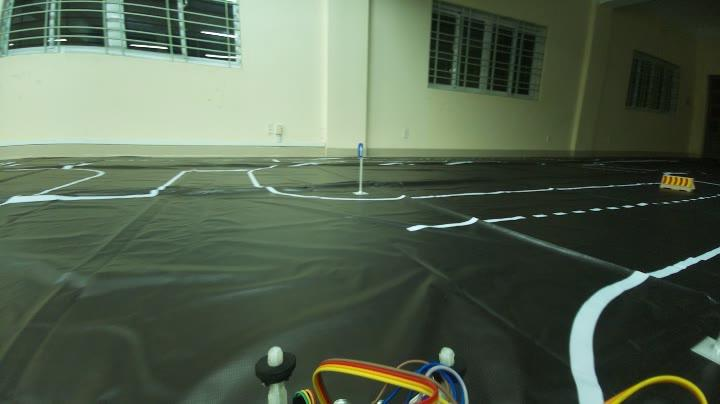onewayroad: (352, 142, 364, 150)
roadblock: (662, 170, 698, 190)
